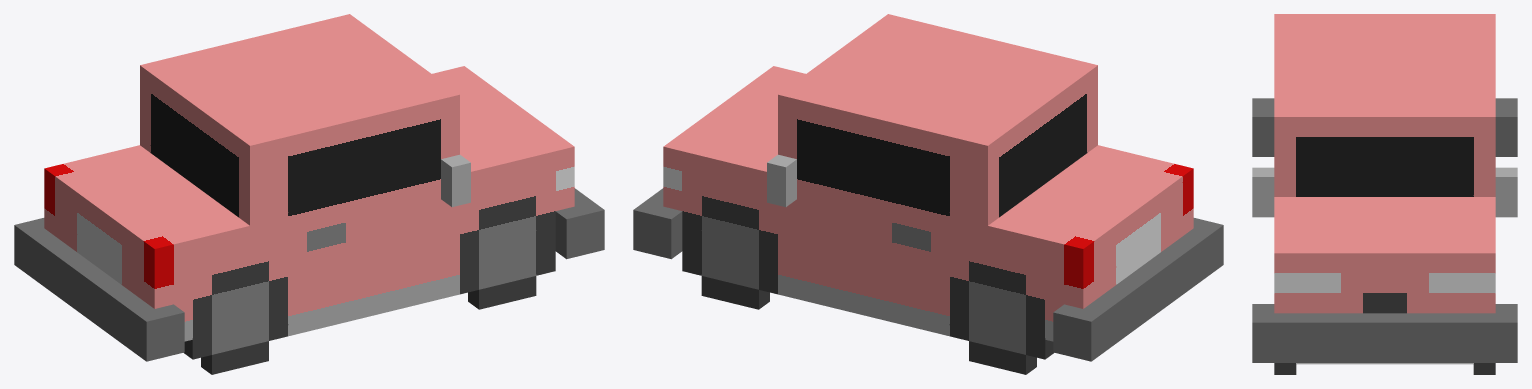
Rendered from veh_mini2.fbx.
The picture shows the model from 3 angles, left to right: view 1: azimuth 30°, elevation 25°; view 2: azimuth 150°, elevation 25°; view 3: azimuth 270°, elevation 25°; orthographic projection.
Parts seen in each view (by area): view 1: veh_mini2; view 2: veh_mini2; view 3: veh_mini2.
Part boxes in pixels (x1,y1,x2,y2): veh_mini2: (14,14,604,374); veh_mini2: (633,14,1223,374); veh_mini2: (1252,14,1517,374).
Size of the model in its own units: 2.4 by 1.2 by 1.1.
Materials: 1 (1 with a texture image).
